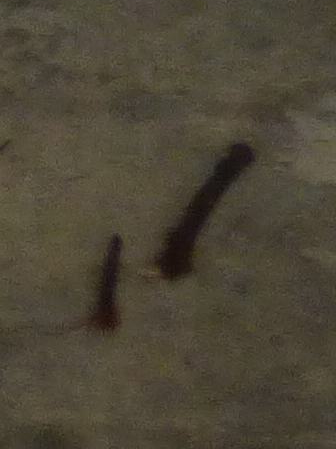Exposed reinforcement: (159, 142, 254, 279), (95, 232, 122, 329)
